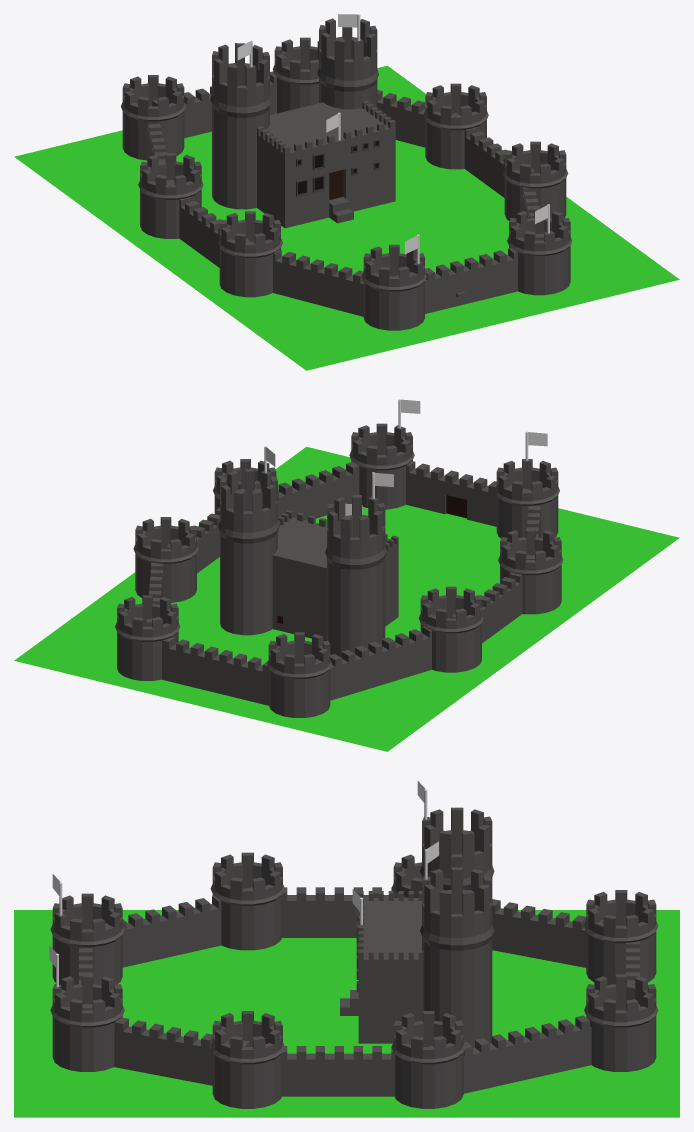
Rendered from Castle FBX.fbx.
3 renders of one model, top to bottom at view 1: azimuth 30°, elevation 25°; view 2: azimuth 150°, elevation 25°; view 3: azimuth 270°, elevation 25°, orthographic. The views are drawn at different scales.
Parts seen in each view (by area): view 1: Tube008, Plane001, Box009; view 2: Tube008, Plane001, Box009; view 3: Tube008, Plane001, Box009.
Part boxes in pixels (x1=…): Tube008: x1=121, y1=37, x2=572, y2=330; Plane001: x1=14, y1=65, x2=679, y2=370; Box009: x1=210, y1=18, x2=395, y2=228; Tube008: x1=115, y1=423, x2=563, y2=717; Plane001: x1=14, y1=446, x2=679, y2=751; Box009: x1=218, y1=469, x2=398, y2=657; Tube008: x1=50, y1=852, x2=658, y2=1108; Plane001: x1=14, y1=910, x2=679, y2=1117; Box009: x1=340, y1=807, x2=494, y2=1047.
Bounding box in the file's own units: 707 × 302 × 959.
